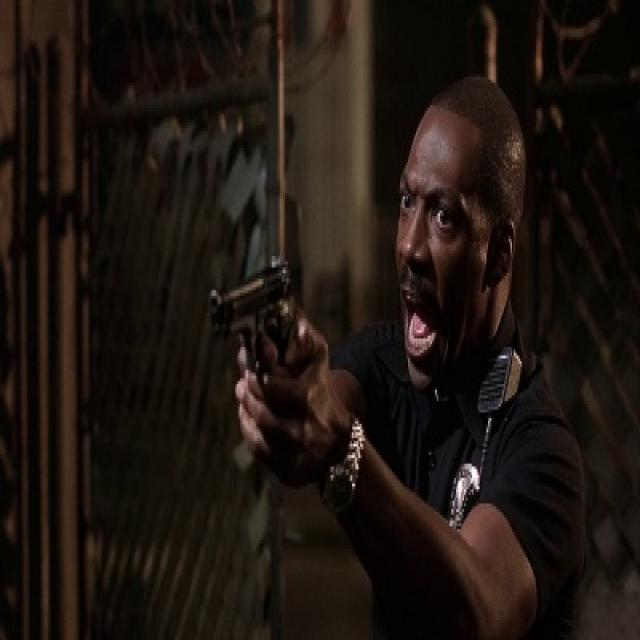weapons: (187, 227, 320, 483)
